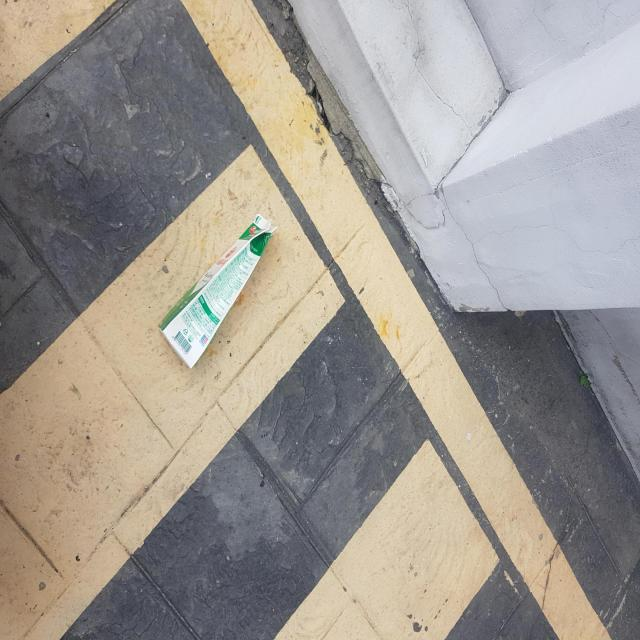paperpack: (158, 214, 277, 368)
